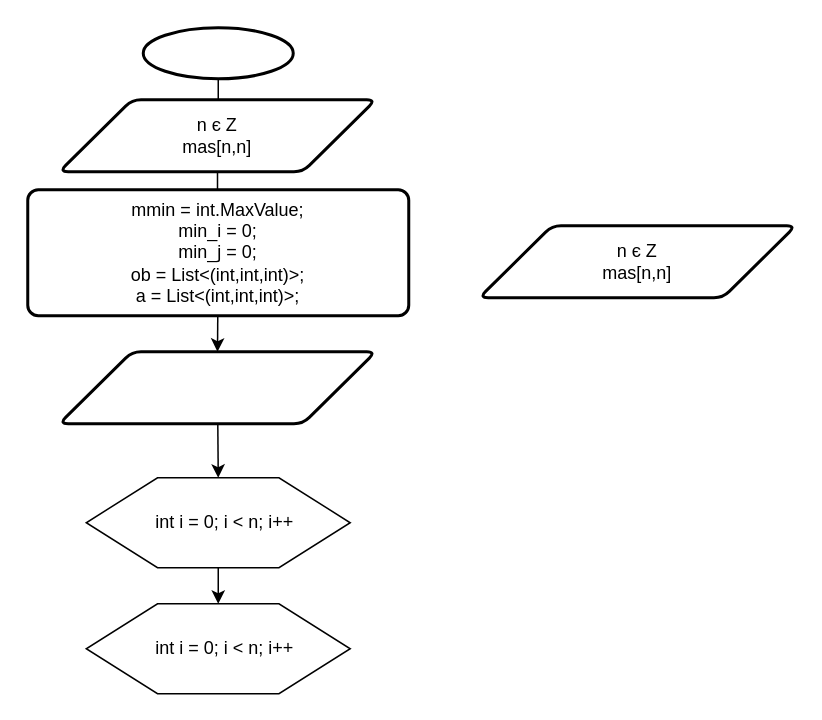
Image size: 822x720. Some labels were removed from this diagram. Here are the shapes that lost their labels. From the top down, the centre of each, then its label:
the point at 217,53: start
the point at 216,387: output: "Array: \n"
